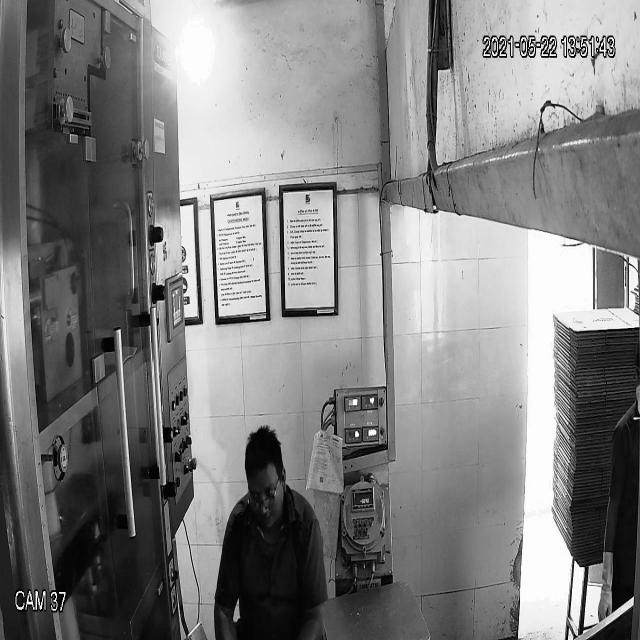glasses: (245, 482, 283, 513)
